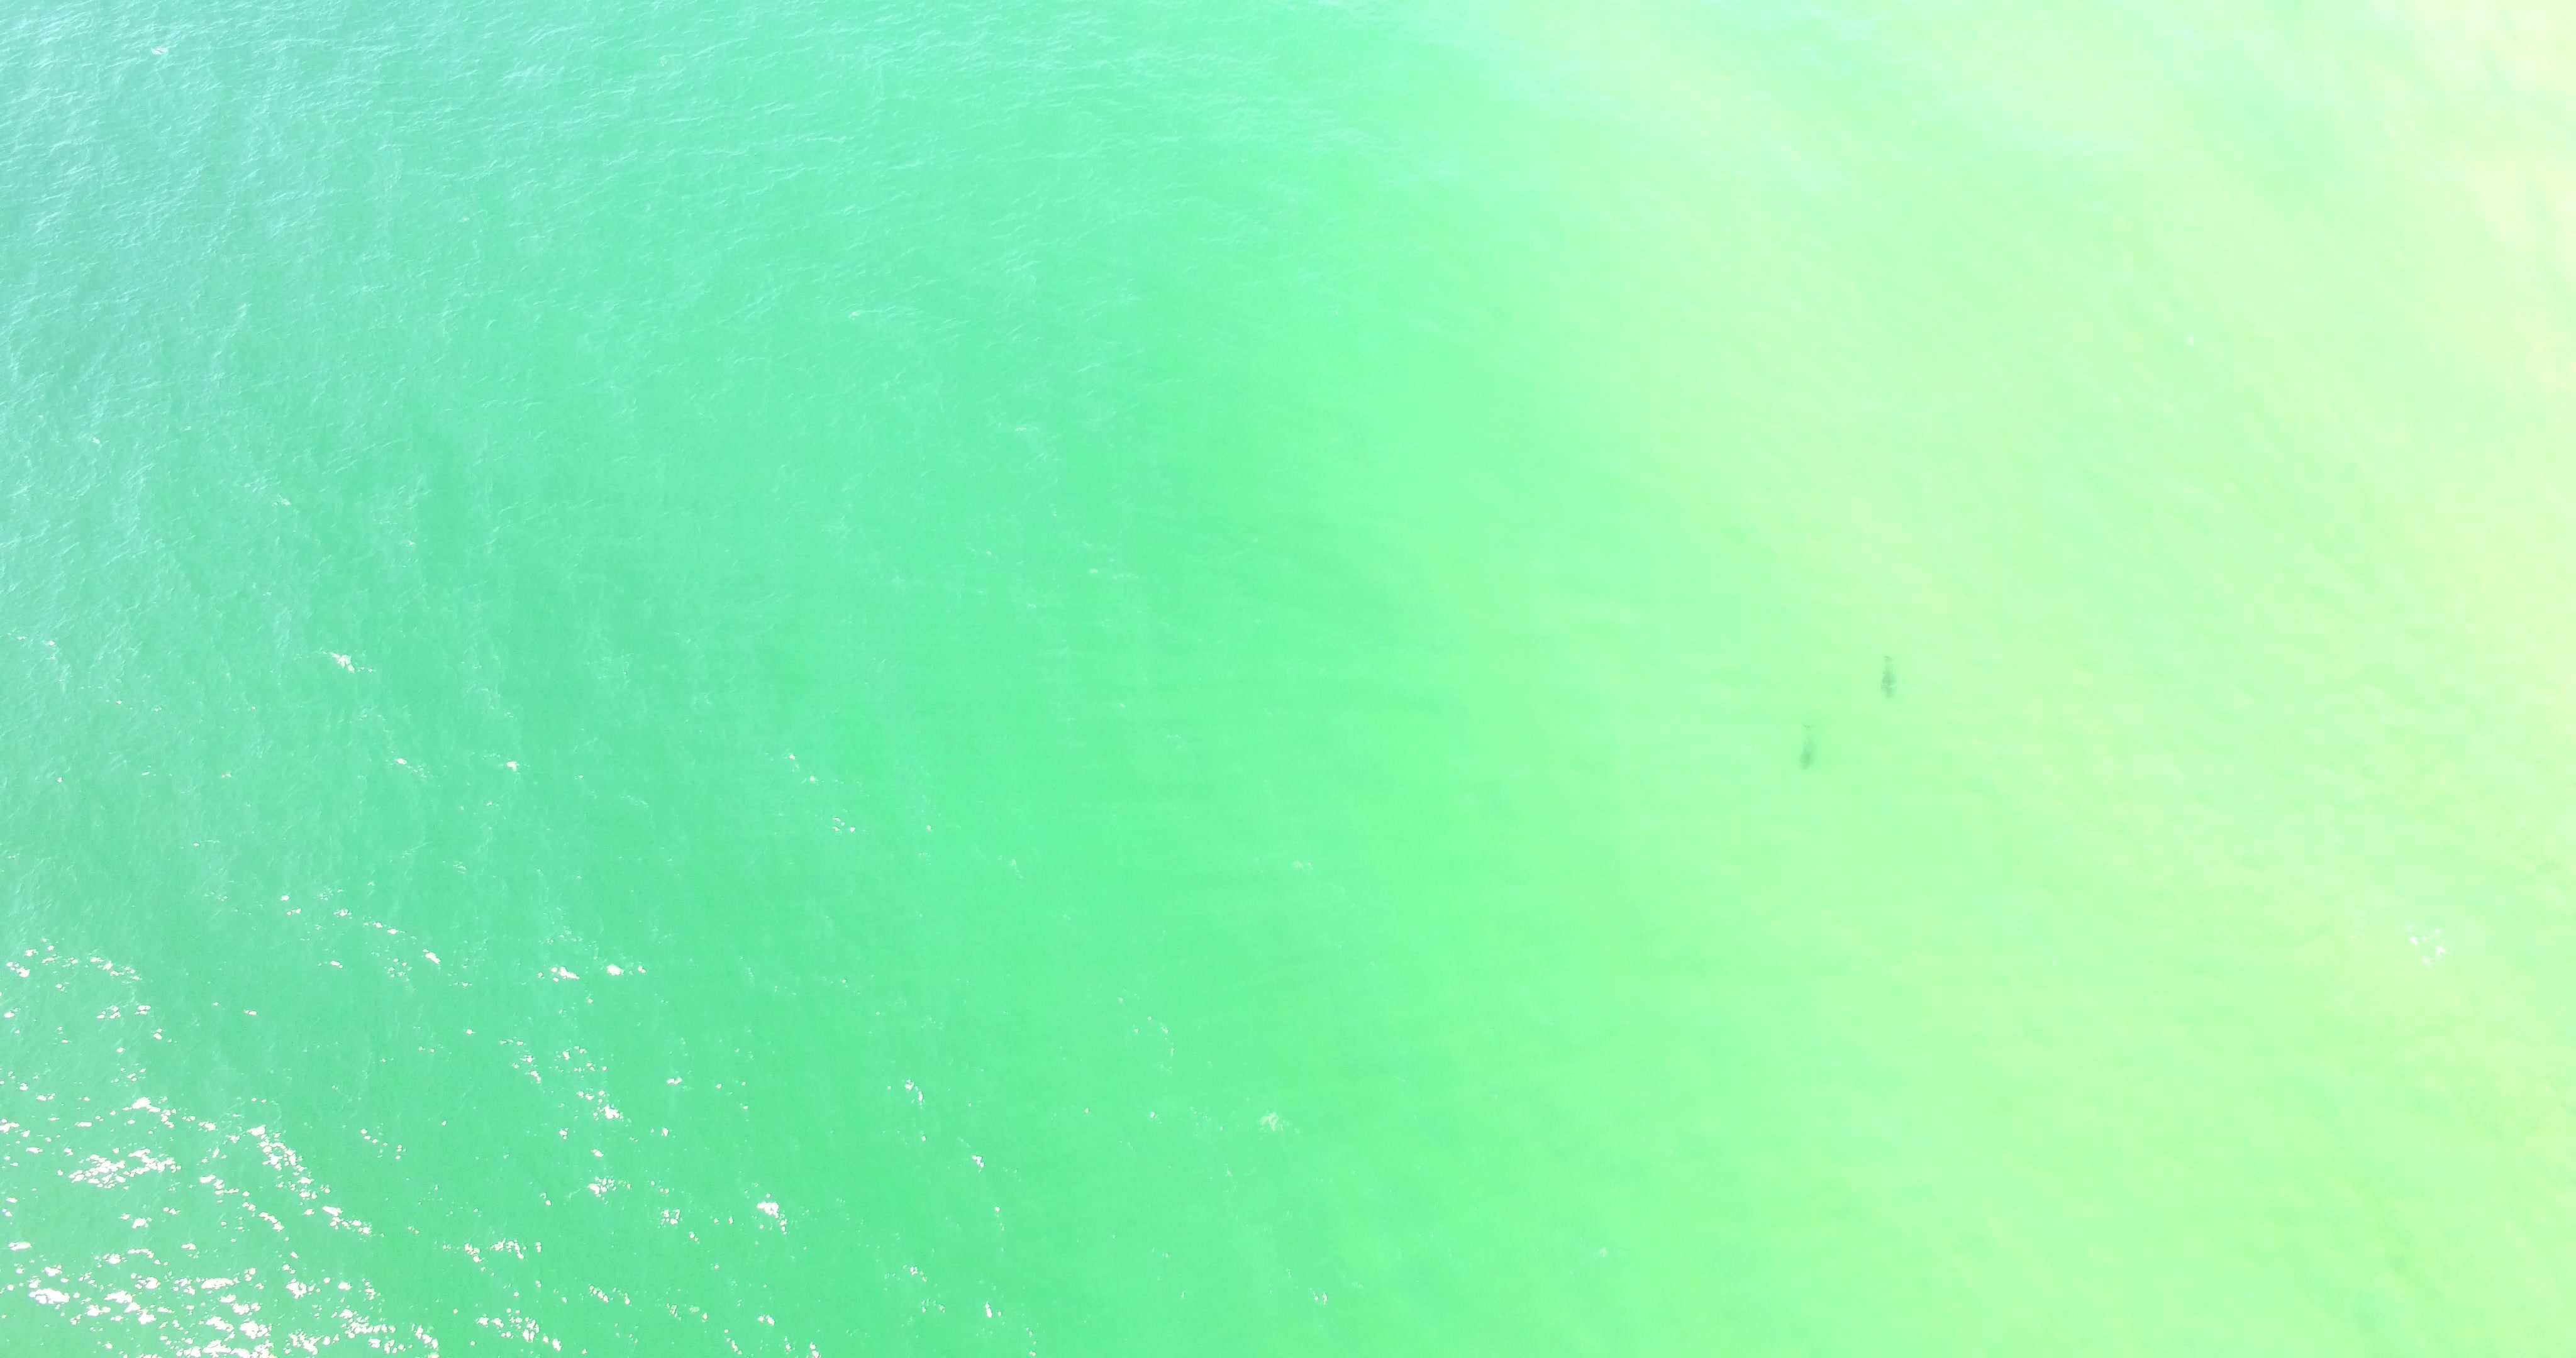dolphin: (1859, 641, 1915, 721), (1780, 705, 1835, 780)
